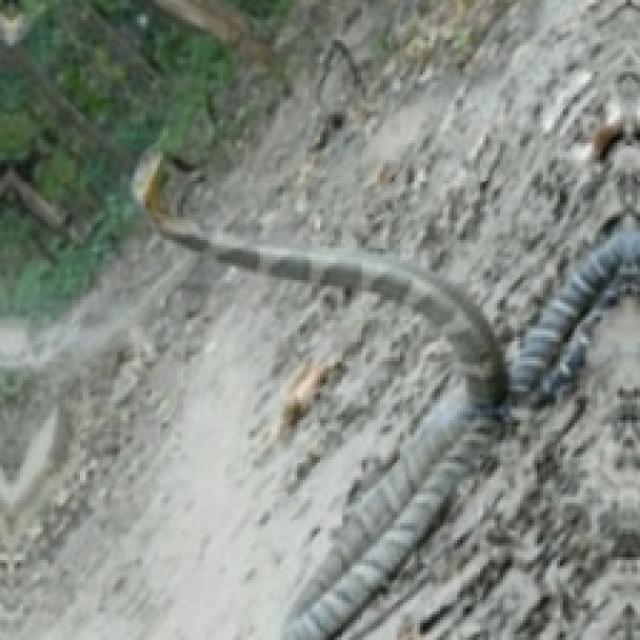king cobra: (134, 151, 637, 637)
